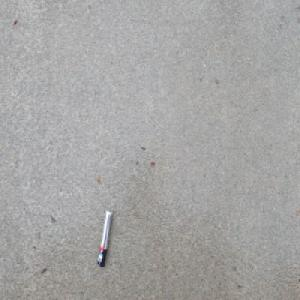Battery: (97, 207, 113, 269)
